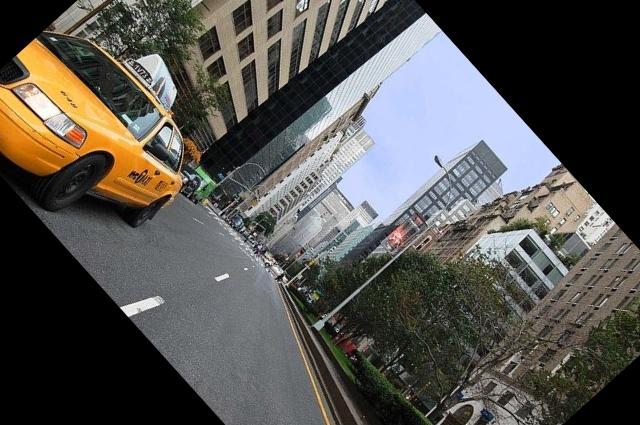taxi: (1, 32, 188, 229)
